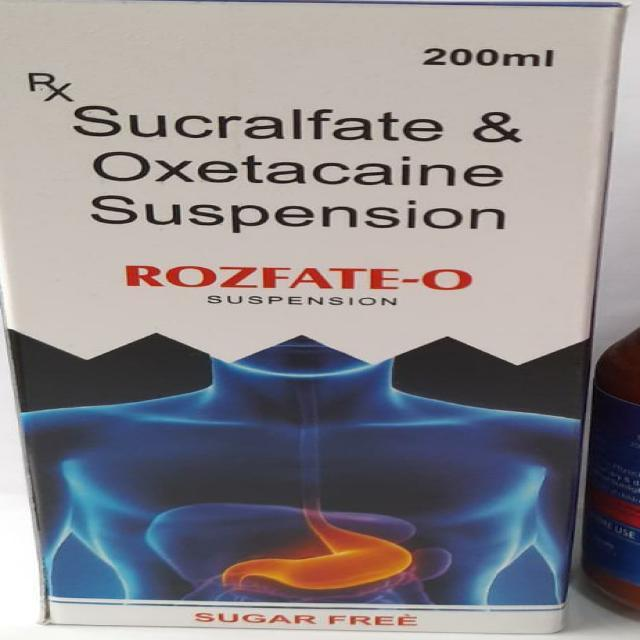drug-name: (123, 263, 477, 295)
